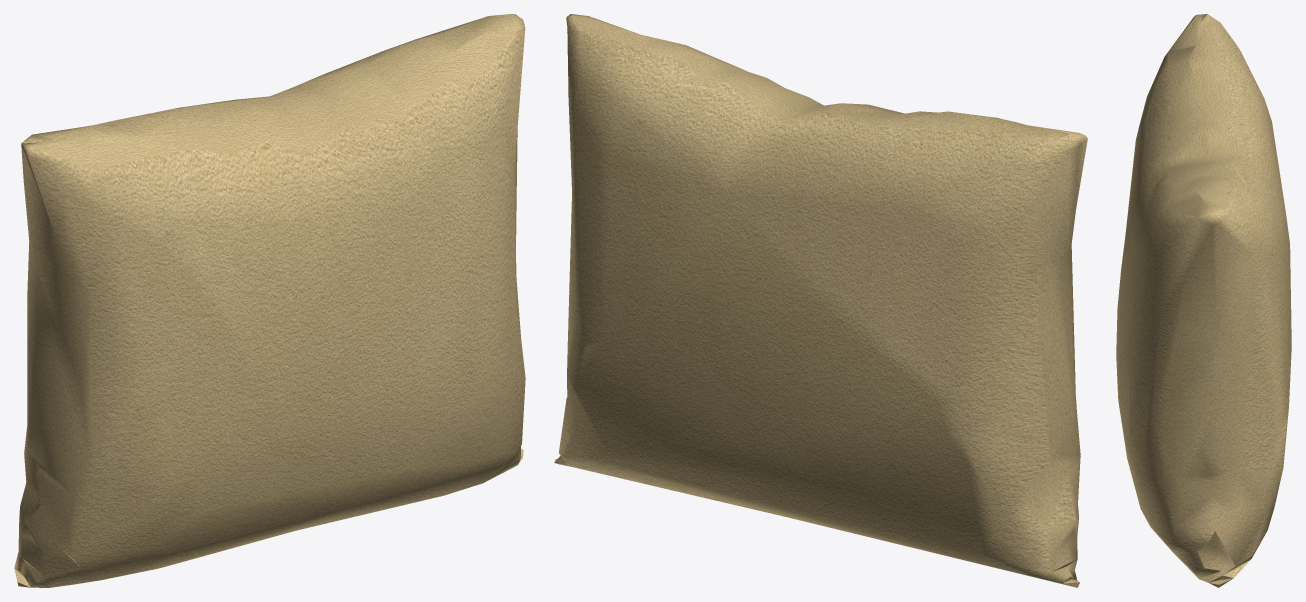
The model's file is Pillow 2.FBX.
3 renders of one model, left to right at view 1: azimuth 30°, elevation 25°; view 2: azimuth 150°, elevation 25°; view 3: azimuth 270°, elevation 25°, orthographic. The views are drawn at different scales.
Parts seen in each view (by area): view 1: pillow 2; view 2: pillow 2; view 3: pillow 2.
Part boxes in pixels (bbox=[...]): pillow 2: bbox=[14, 14, 525, 587]; pillow 2: bbox=[554, 14, 1087, 587]; pillow 2: bbox=[1116, 14, 1291, 587].
Bounding box in the file's own units: 24.88 × 20.8 × 8.85.
1 material, 1 textured.
